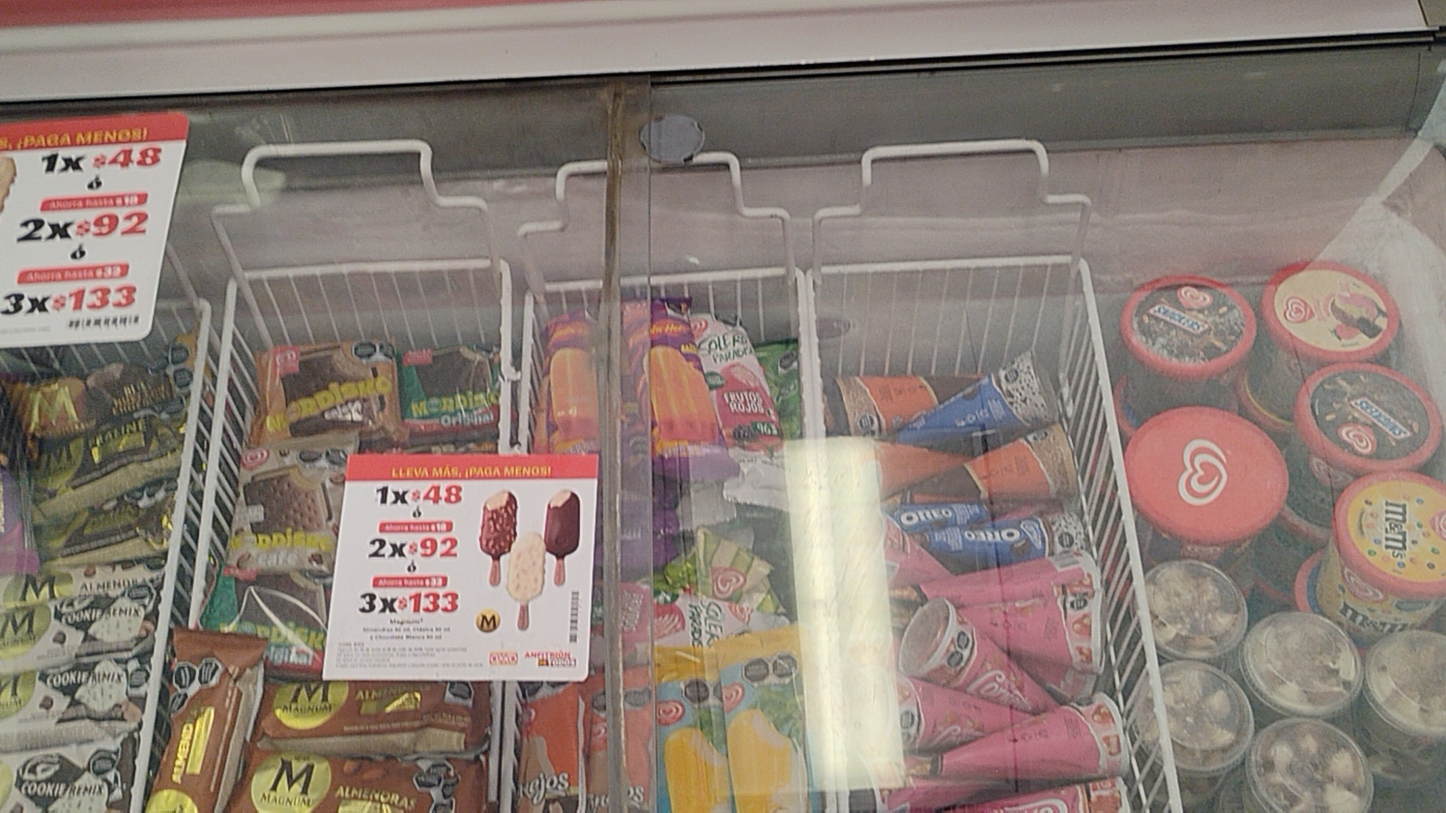rejilla: (1083, 265, 1180, 813), (133, 311, 209, 811), (809, 277, 846, 812), (800, 280, 835, 812), (189, 286, 236, 629), (824, 257, 1071, 271), (249, 261, 491, 275), (622, 269, 785, 283), (522, 295, 532, 453), (503, 682, 513, 812), (502, 273, 508, 453), (490, 683, 499, 799), (548, 282, 602, 288), (158, 301, 190, 307)
